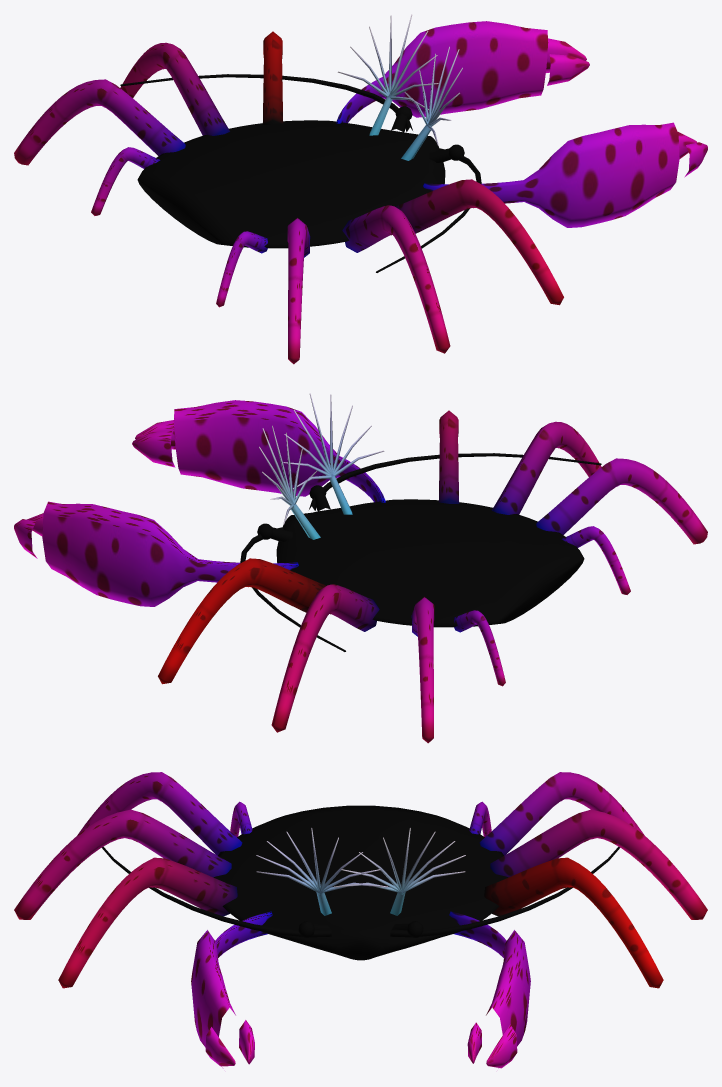
The model's file is porcelain_crab.glb.
3 renders of one model, top to bottom at view 1: azimuth 30°, elevation 25°; view 2: azimuth 150°, elevation 25°; view 3: azimuth 270°, elevation 25°, orthographic. The views are drawn at different scales.
Parts seen in each view (by area): view 1: Body, Claws, Legs, Fans, Eyes; view 2: Body, Claws, Legs, Fans, Eyes; view 3: Legs, Body, Claws, Fans, Eyes.
Part boxes in pixels (x1,y1,x2,y2): Body: (120, 74, 481, 272); Claws: (336, 21, 707, 227); Legs: (14, 31, 563, 364); Fans: (337, 14, 462, 160); Eyes: (391, 106, 464, 162); Body: (240, 453, 601, 651); Claws: (14, 400, 385, 606); Legs: (158, 410, 707, 743); Fans: (259, 393, 384, 539); Eyes: (257, 485, 330, 541); Legs: (14, 772, 707, 988); Body: (102, 805, 619, 960); Claws: (191, 911, 530, 1068); Fans: (256, 828, 465, 915); Eyes: (298, 921, 423, 937).
Bounding box in the file's own units: 1.97 × 0.624 × 2.3.
2 materials, 2 textured.
